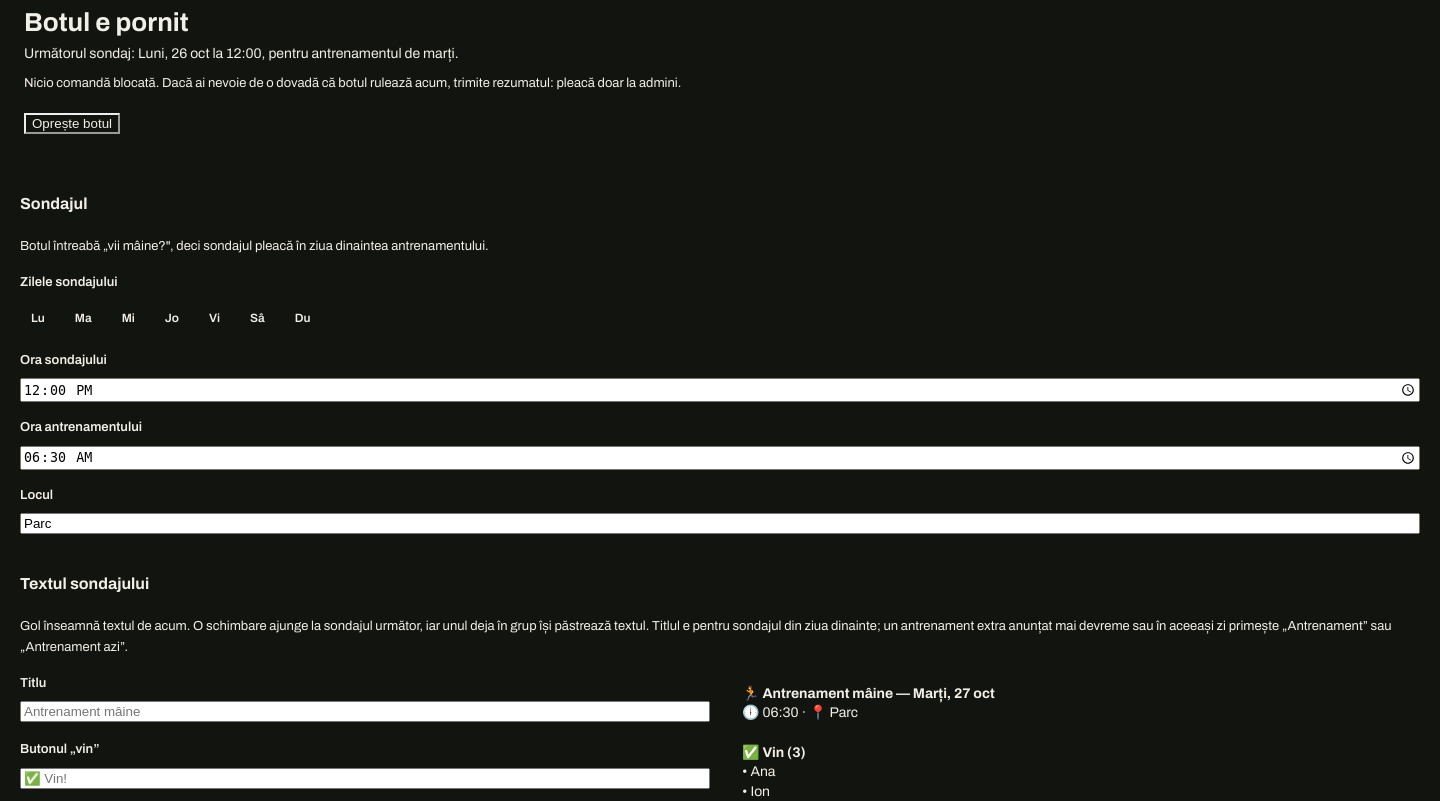
Test case: Botul de Telegram › previzualizarea urmează titlul la fiecare literă
Expected: the text "Textul sondajului" is shown, [12, 572, 157, 596]
Type "Alergăm!" into the field labelled "Titlu". click: (365, 712)
box: [20, 701, 710, 722]
(page scrolled)
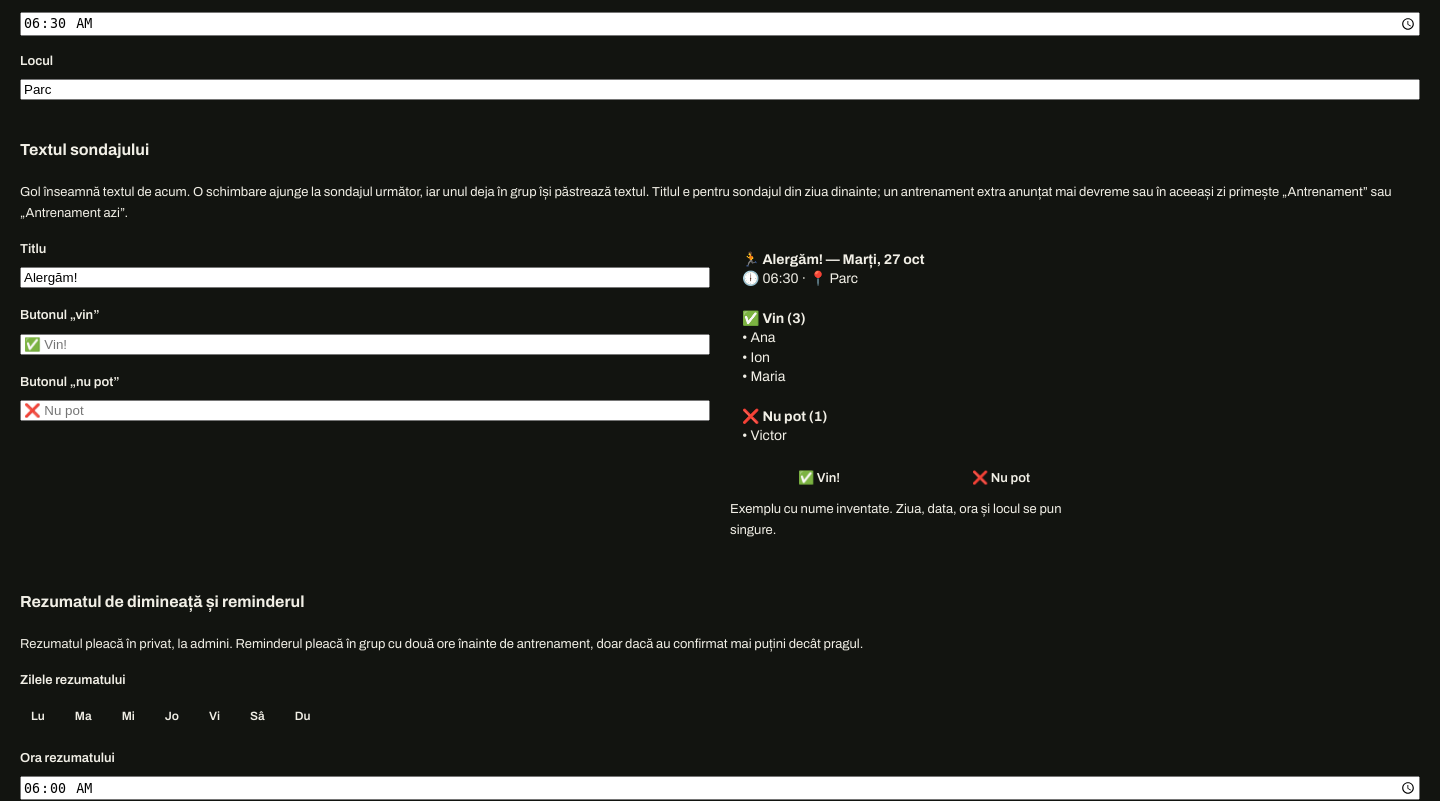
Expected: the element named "Așa arată sondajul în grup" shows "Alergăm!", [762, 252, 925, 267]
Expected: the text "Așa arată sondajul în grup" no longer shows "Antrenament mâine"
